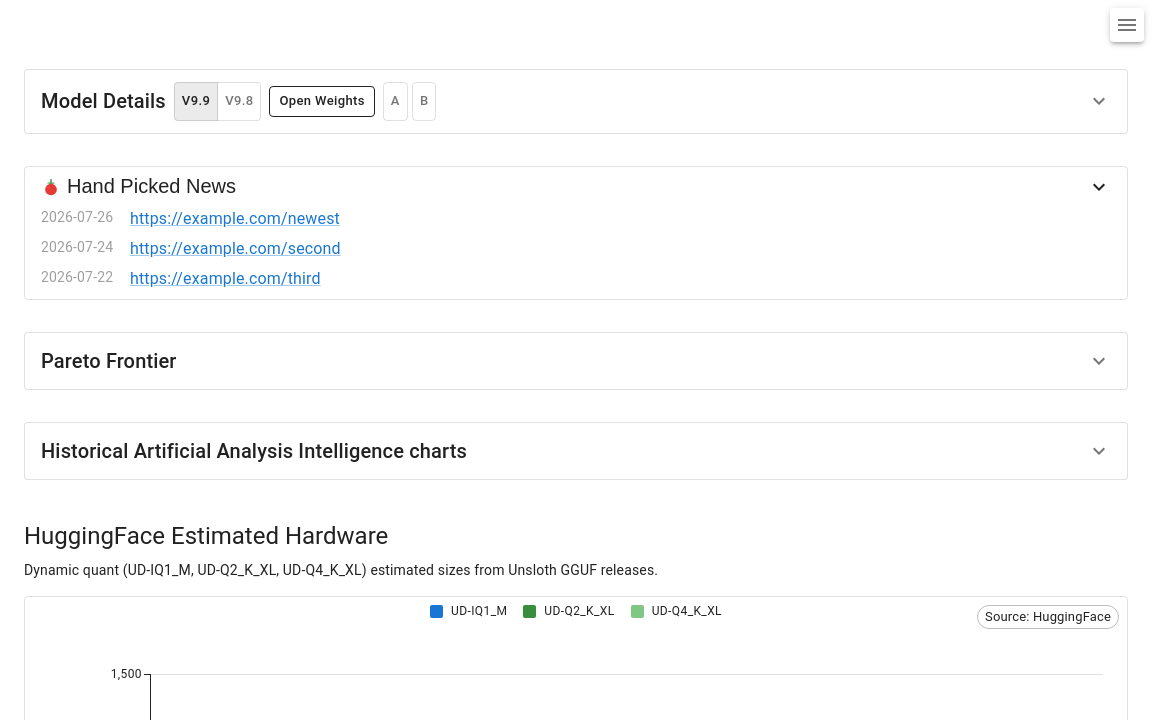
it: Dashboard › feeds the Pareto Frontier the selected version’s published snapshot
The width and height of the screenshot is (1152, 720).
(page scrolled)
Click the button "Pareto Frontier": [109, 361] box [25, 333, 1127, 389]
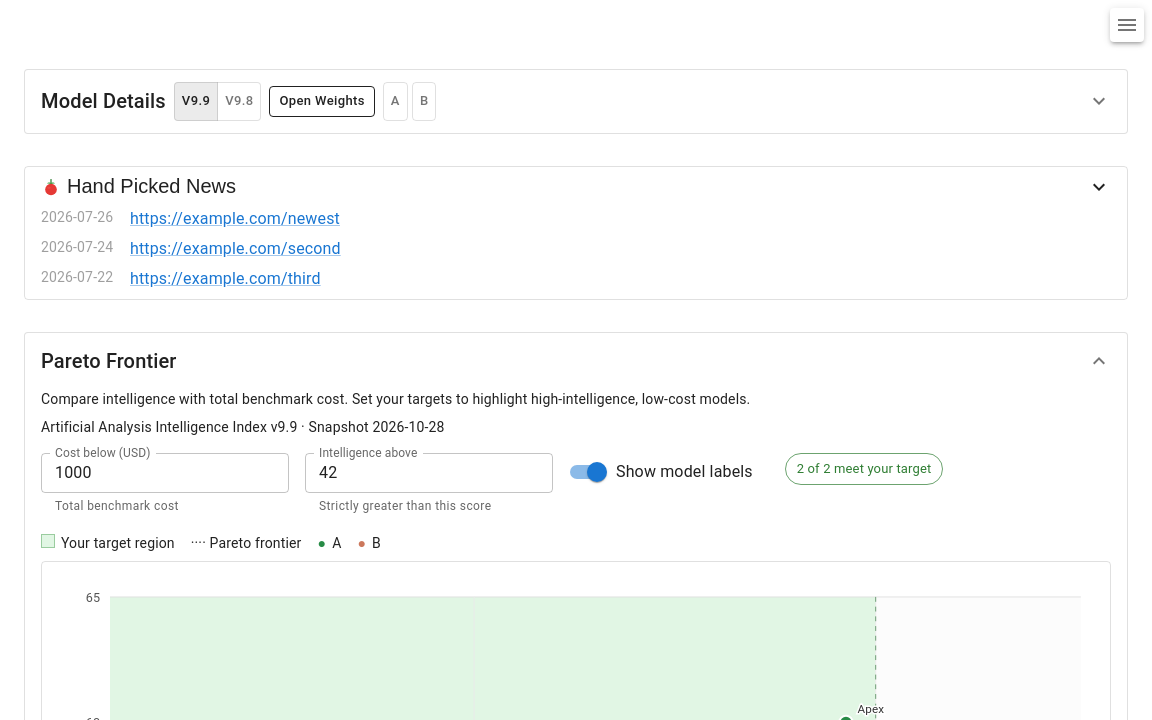
Expected: the text "Intelligence Index v9.9 · Snapshot" is shown, [41, 419, 445, 435]
Click the button "v9.8": [239, 101] box [217, 82, 262, 121]
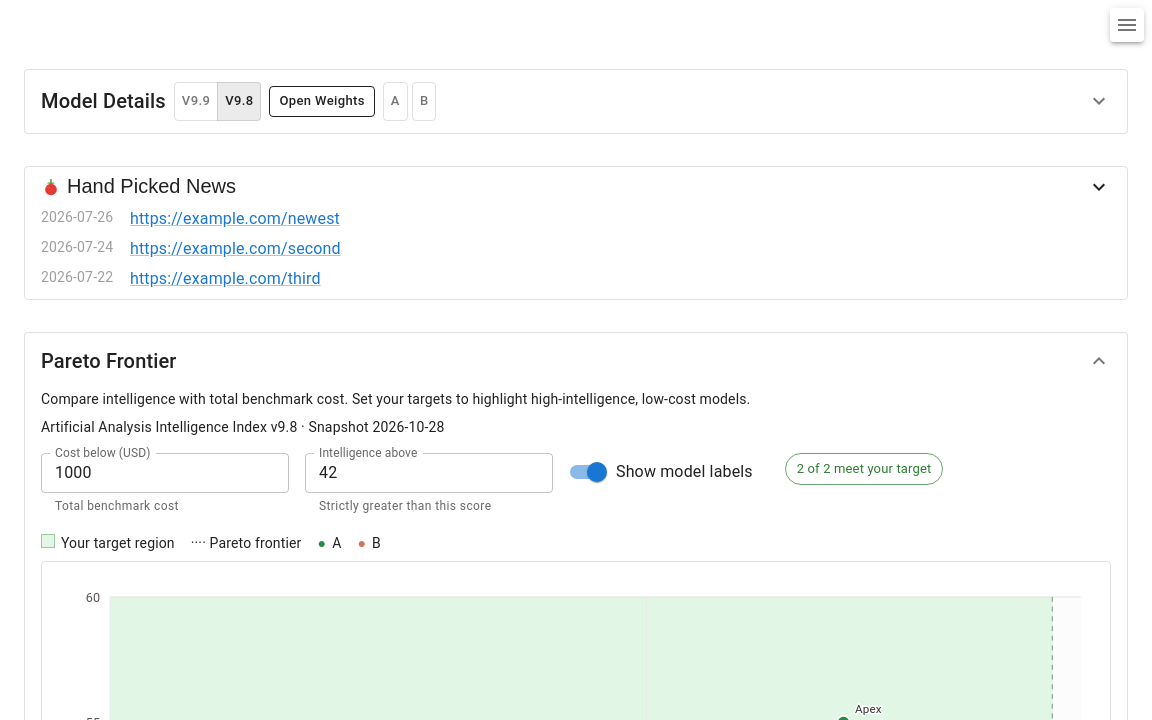
Expected: the text "Intelligence Index v9.8 · Snapshot" is shown, [41, 419, 445, 435]
Expected: the text "Intelligence Index v9.9 · Snapshot" is gone
